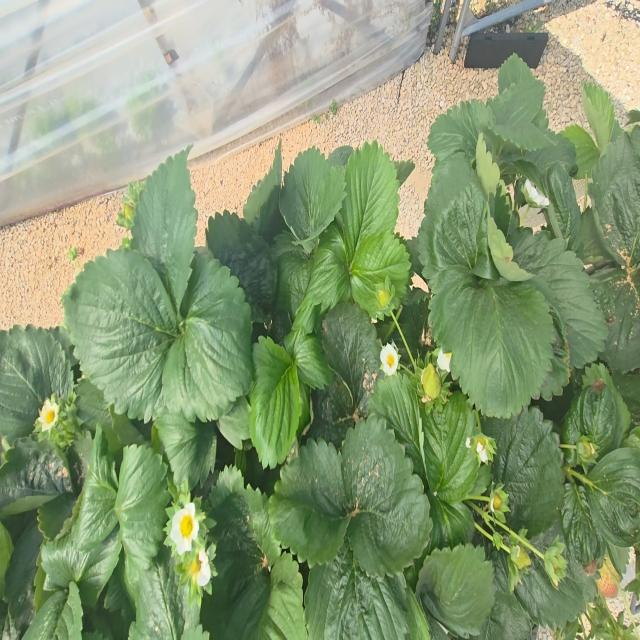Flowers: (170, 502, 199, 555), (189, 548, 211, 587), (522, 179, 550, 209), (38, 396, 59, 431), (380, 343, 398, 376), (437, 347, 452, 372), (476, 440, 488, 462)
Leaves: (63, 251, 178, 421), (429, 265, 554, 418), (162, 256, 252, 420), (342, 417, 432, 577), (510, 231, 607, 368), (482, 407, 564, 537), (305, 540, 412, 639), (131, 149, 197, 309), (269, 440, 350, 566), (418, 152, 487, 279), (0, 325, 74, 440), (206, 211, 277, 322), (336, 142, 399, 261), (416, 543, 495, 636), (249, 337, 303, 468), (113, 444, 169, 568), (279, 149, 345, 253), (589, 131, 640, 264), (322, 302, 381, 416), (561, 364, 630, 458), (423, 392, 479, 505), (587, 263, 640, 373), (515, 558, 596, 628), (71, 430, 117, 552), (368, 374, 424, 473), (585, 447, 640, 546), (349, 231, 410, 318), (129, 559, 188, 639), (155, 414, 216, 489), (0, 444, 72, 507), (41, 533, 121, 588), (258, 553, 307, 639), (489, 53, 545, 123), (561, 478, 606, 565), (302, 233, 350, 313), (428, 101, 492, 161), (542, 162, 580, 252), (23, 582, 82, 639), (284, 328, 330, 389), (490, 105, 549, 149), (581, 83, 615, 154), (560, 125, 600, 178), (76, 378, 111, 430)
Strawberries: (542, 536, 566, 587), (596, 560, 618, 598), (421, 363, 441, 400), (489, 484, 509, 513), (577, 436, 597, 461), (511, 546, 530, 569), (377, 289, 390, 306)
